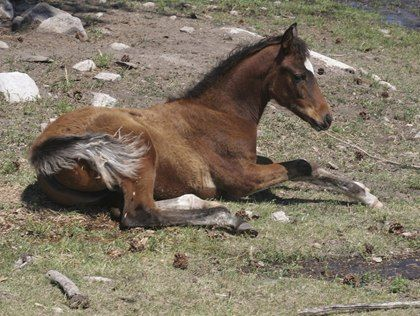Horse: (32, 25, 382, 237)
